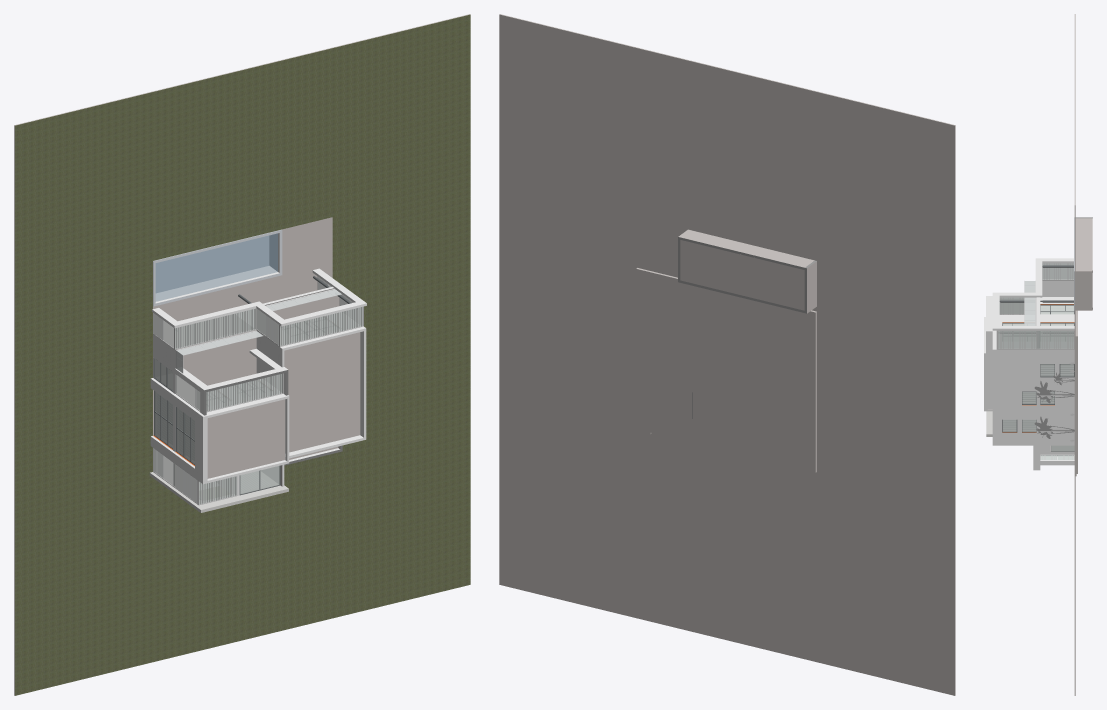
File: villa21.glb
3 views of the same model, side by side, from view 1: azimuth 30°, elevation 25°; view 2: azimuth 150°, elevation 25°; view 3: azimuth 270°, elevation 25° (orthographic). The views are drawn at different scales.
Parts seen in each view (by area): view 1: Obj.13015:1, Obj.13015, Obj.10196:1, Obj.19354, Obj.19948, Obj.19862, Obj.11544:4, Obj.19878, Obj.12397, Obj.10288:1, Obj.11307:3; view 2: Obj.13015, Obj.10197:1; view 3: Obj.10196:1, Obj.19354, Obj.13015, Obj.19948, Obj.10197:1, Obj.10288:1, Obj.11544:4.
Part boxes in pixels (box(x1,y1,x2,y2)): Obj.13015:1: box(15, 14, 470, 695); Obj.13015: box(14, 14, 470, 695); Obj.10196:1: box(150, 233, 366, 495); Obj.19354: box(153, 277, 362, 504); Obj.19948: box(153, 276, 363, 505); Obj.19862: box(155, 233, 277, 301); Obj.11544:4: box(176, 289, 341, 373); Obj.19878: box(153, 229, 282, 306); Obj.12397: box(149, 472, 288, 512); Obj.10288:1: box(153, 276, 351, 495); Obj.11307:3: box(175, 288, 342, 465); Obj.13015: box(499, 14, 955, 695); Obj.10197:1: box(678, 237, 816, 418); Obj.10196:1: box(984, 258, 1074, 470); Obj.19354: box(998, 263, 1074, 459); Obj.13015: box(988, 14, 1092, 695); Obj.19948: box(996, 263, 1074, 459); Obj.10197:1: box(1034, 217, 1092, 451); Obj.10288:1: box(999, 265, 1074, 432); Obj.11544:4: box(1024, 281, 1035, 325).
Size of the model in its own units: 39.59 by 47.32 by 9.5.
29 materials, 8 textured.
